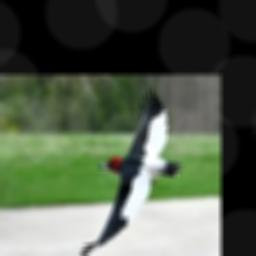Woodpecker: (81, 88, 183, 256)
